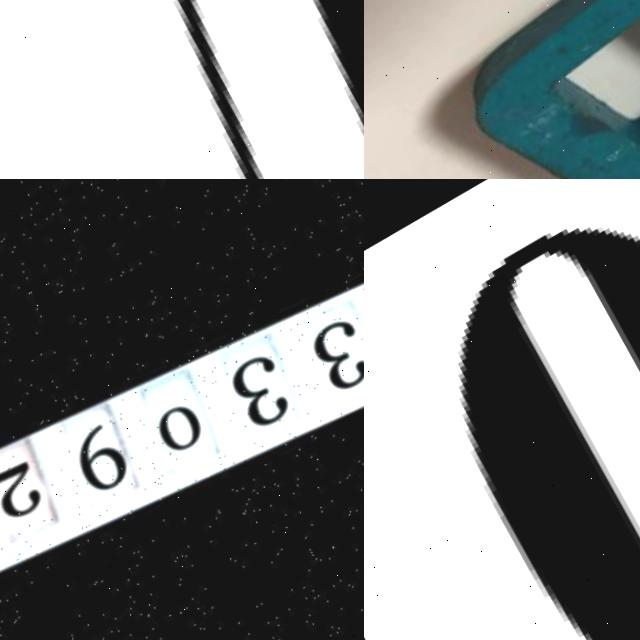0: (135, 369, 245, 482)
2: (0, 432, 83, 547)
3: (207, 325, 331, 452), (290, 290, 364, 413)
9: (52, 396, 169, 517)
D: (432, 0, 640, 179)
U: (26, 0, 364, 179)
